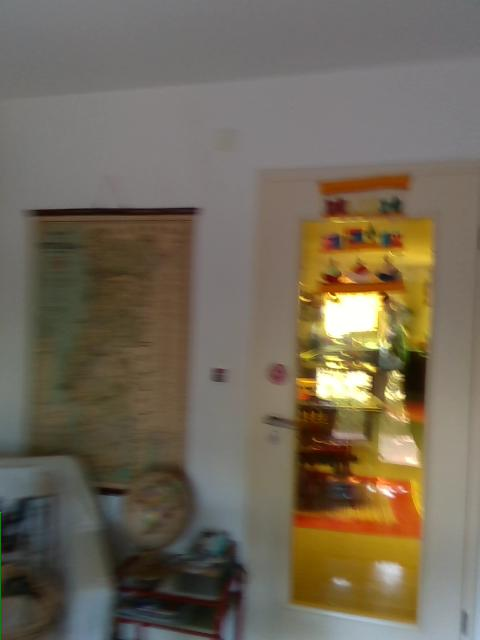door: (238, 165, 476, 637)
